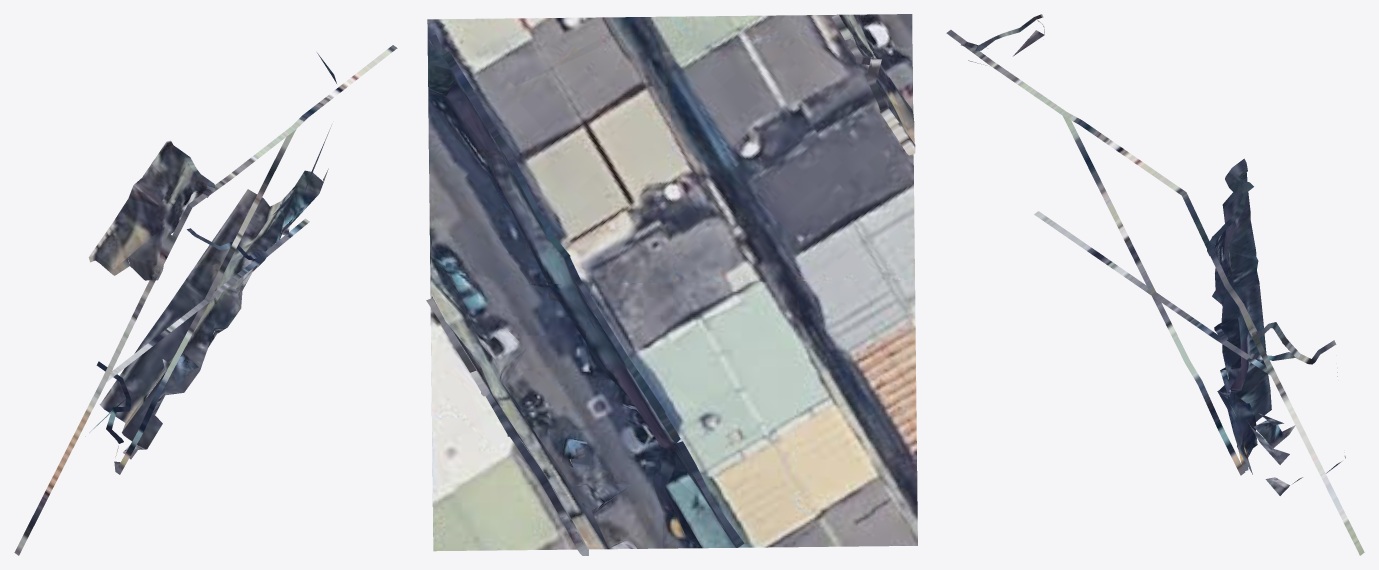
3 views of the same model, side by side, from view 1: azimuth 30°, elevation 25°; view 2: azimuth 150°, elevation 25°; view 3: azimuth 270°, elevation 25° (orthographic). The views are drawn at different scales.
Bounding box in the file's own units: 38.11 × 37.1 × 32.18.
1 material, 1 textured.
